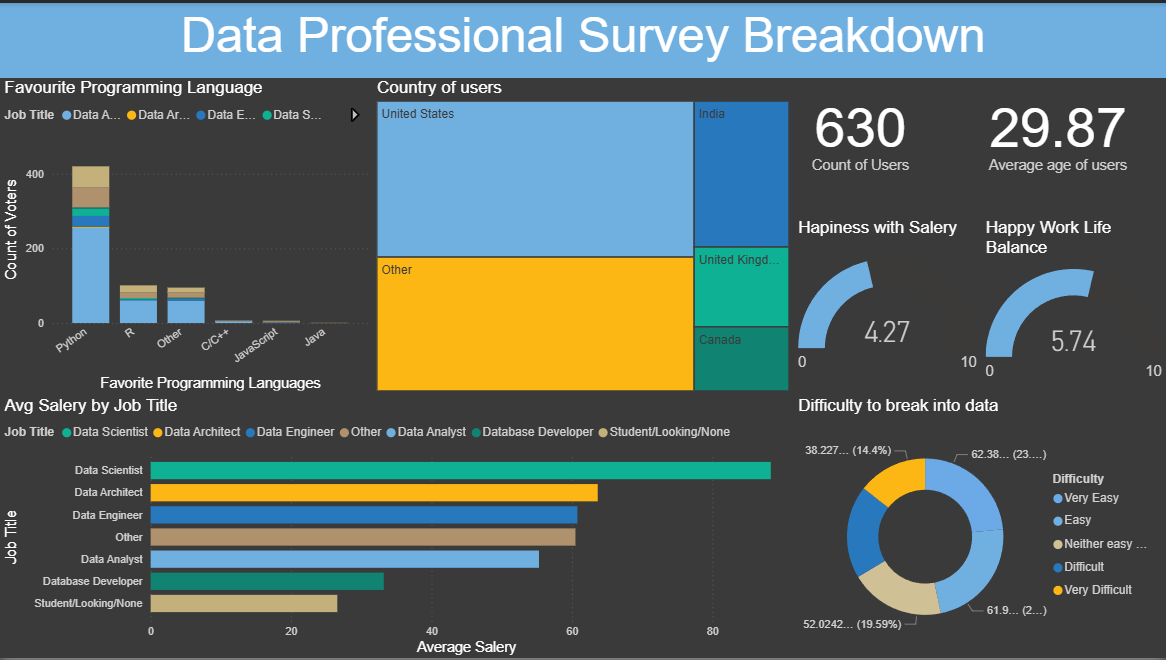

This screenshot's page, from the dashboard's own definition file:
{"tool":"powerbi","page":{"name":"Page 1","canvas":[1280,720],"ordinal":0},"visuals":[{"type":"textbox","box":[0,0,1280.3,82.3],"z":0},{"type":"card","fields":{"Values":["Count(Data Professional Survey.Unique ID)"]},"box":[846.7,82.3,196.2,116.6],"z":1000},{"type":"card","fields":{"Values":["Avg(Data Professional Survey.Q10 - Current Age)"]},"box":[1042.9,82.3,237.4,116.6],"z":2000},{"type":"barChart","title":"Avg Salery by Job Title","fields":{"Category":["Data Professional Survey.Q1 - Which Title Best Fits your Current Role?.1"],"Y":["Avg(Data Professional Survey.Avg Salery)"],"Series":["Data Professional Survey.Q1 - Which Title Best Fits your Current Role?.1"]},"box":[0,430.9,871.4,289.5],"z":3000},{"type":"columnChart","title":"Favourite Programming Language ","fields":{"Category":["Data Professional Survey.Q5 - Favorite Programming Language.1"],"Y":["CountNonNull(Data Professional Survey.Unique ID)"],"Series":["Data Professional Survey.Q1 - Which Title Best Fits your Current Role?.1"]},"box":[0,82.3,408.9,348.5],"z":4000},{"type":"treemap","title":"Country of users","fields":{"Group":["Data Professional Survey.Q11 - Which Country do you live in?.1"],"Values":["CountNonNull(Data Professional Survey.Q11 - Which Country do you live in?.1)"]},"box":[408.9,82.3,462.4,348.5],"z":5000},{"type":"gauge","title":"Happy Work Life Balance","fields":{"Y":["Avg(Data Professional Survey.Q6 - How Happy are you in your Current Position with the following? (Work/Life Balance))"],"MinValue":["Min(Data Professional Survey.Q6 - How Happy are you in your Current Position with the following? (Work/Life Balance))"],"MaxValue":["Max(Data Professional Survey.Q6 - How Happy are you in your Current Position with the following? (Work/Life Balance))"],"TargetValue":["Sum(Data Professional Survey.Q6 - How Happy are you in your Current Position with the following? (Work/Life Balance))"]},"box":[1077.2,236,203.1,194.9],"z":6000},{"type":"gauge","title":"Hapiness with Salery","fields":{"Y":["Avg(Data Professional Survey.Q6 - How Happy are you in your Current Position with the following? (Salary))"],"MinValue":["Min(Data Professional Survey.Q6 - How Happy are you in your Current Position with the following? (Salary))"],"MaxValue":["Max(Data Professional Survey.Q6 - How Happy are you in your Current Position with the following? (Salary))"],"TargetValue":["Sum(Data Professional Survey.Q6 - How Happy are you in your Current Position with the following? (Salary))"]},"box":[871.4,236,205.8,194.9],"z":7000},{"type":"donutChart","title":"Difficulty to break into data","fields":{"Category":["Data Professional Survey.Q7 - How difficult was it for you to break into Data?"],"Y":["Avg(Data Professional Survey.Avg Salery)"]},"box":[871.4,430.9,408.9,289.5],"z":8000}]}

Visuals, with their boxes in screenshot pixels (x1, y1, x2, y2), scaled from the page's 1280x720 canvas onto the 1166x660 screenshot:
textbox: crop(0, 0, 1165, 75)
card - Count(Data Professional Survey.Unique ID): crop(771, 75, 950, 182)
card - Avg(Data Professional Survey.Q10 - Current Age): crop(950, 75, 1165, 182)
"Avg Salery by Job Title" barChart: crop(0, 395, 794, 659)
"Favourite Programming Language " columnChart: crop(0, 75, 372, 395)
"Country of users" treemap: crop(372, 75, 794, 395)
"Happy Work Life Balance" gauge: crop(981, 216, 1165, 395)
"Hapiness with Salery" gauge: crop(794, 216, 981, 395)
"Difficulty to break into data" donutChart: crop(794, 395, 1165, 659)
